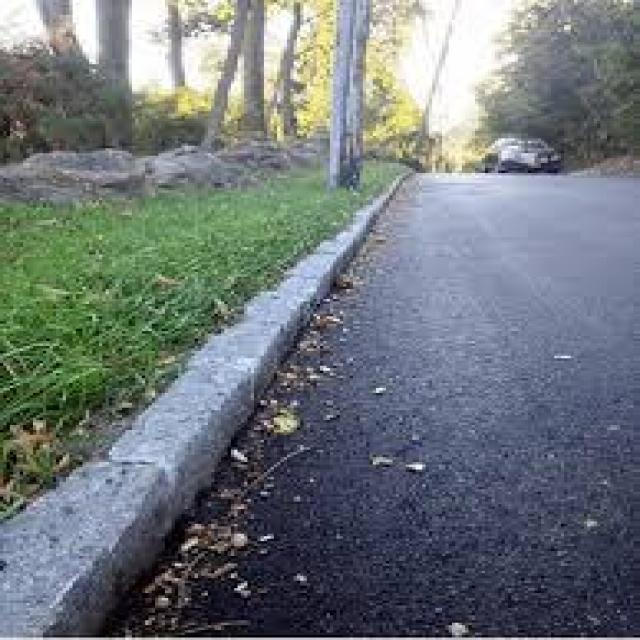curb: (2, 393, 261, 640), (217, 274, 342, 394), (337, 176, 418, 250)
